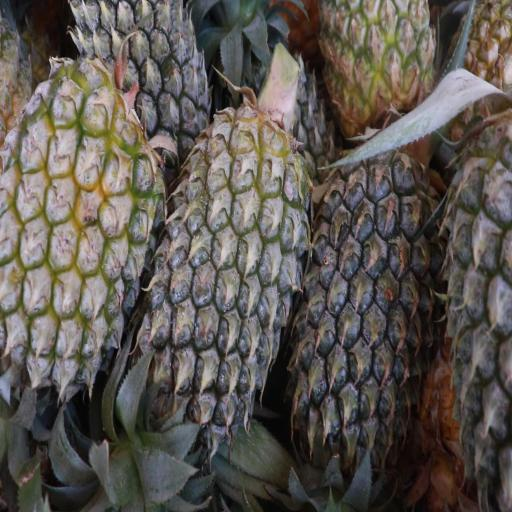------------------------------: (0, 66, 155, 386), (322, 0, 435, 132)
